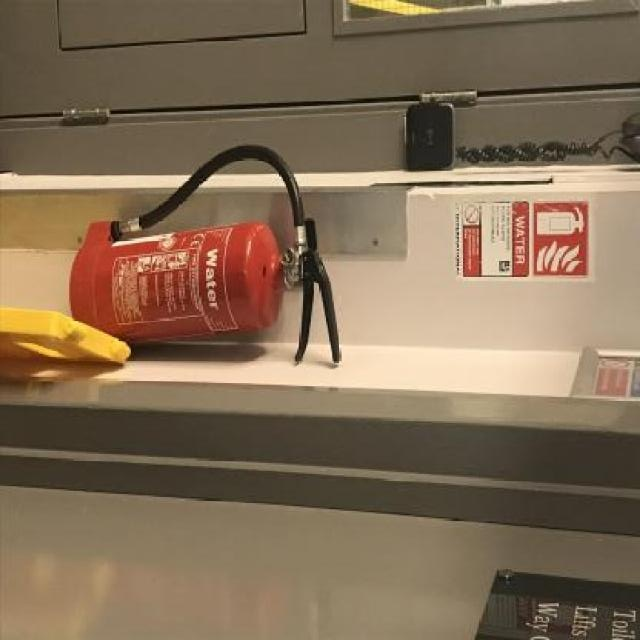fire extinguisher: (70, 145, 344, 366)
